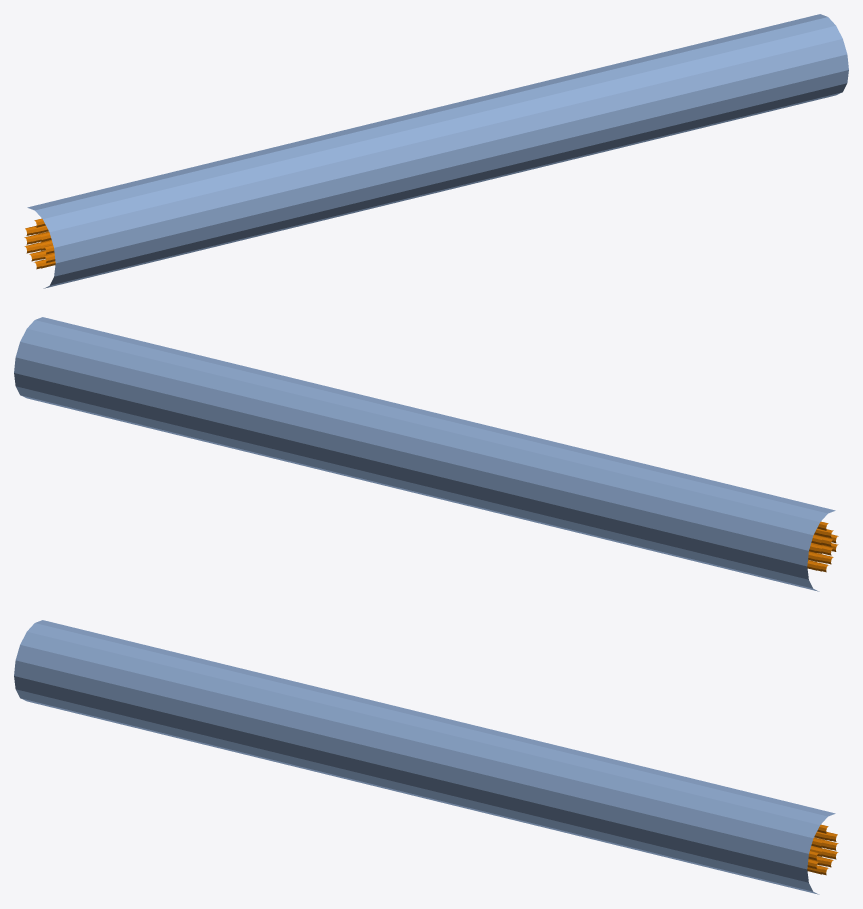
The model's file is 1_straight.glb.
3 renders of one model, top to bottom at view 1: azimuth 30°, elevation 25°; view 2: azimuth 150°, elevation 25°; view 3: azimuth 330°, elevation 25°, orthographic.
Parts seen in each view (by area): view 1: world; view 2: world; view 3: world.
Boxes of the visible parts, x1,y1,x2,y2 form: world: (24, 14, 848, 288); world: (14, 317, 838, 591); world: (14, 620, 838, 894).
Bounding box in the file's own units: 220 × 20 × 20.
